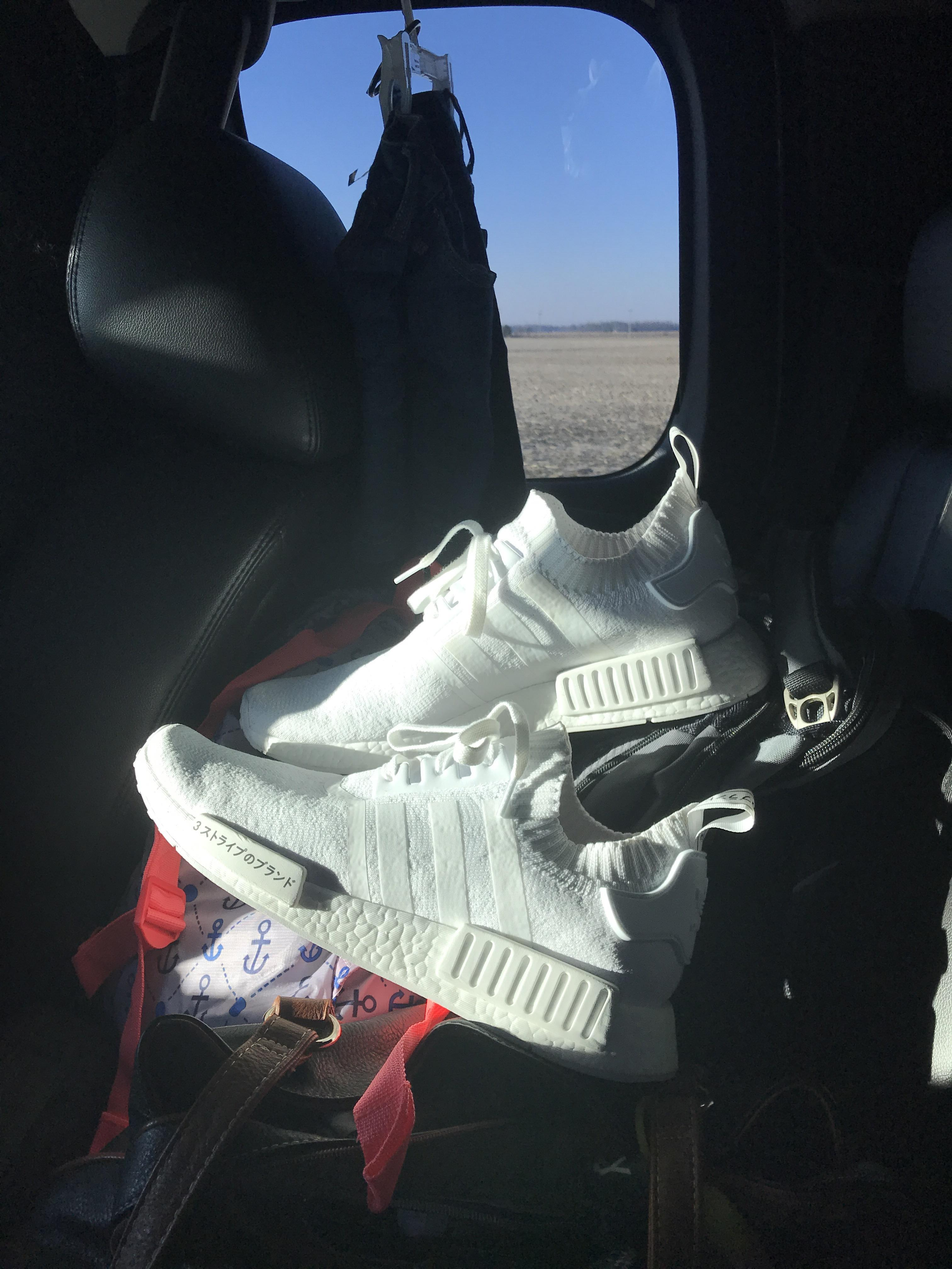sneaker: (130, 724, 715, 1084), (234, 463, 746, 749)
